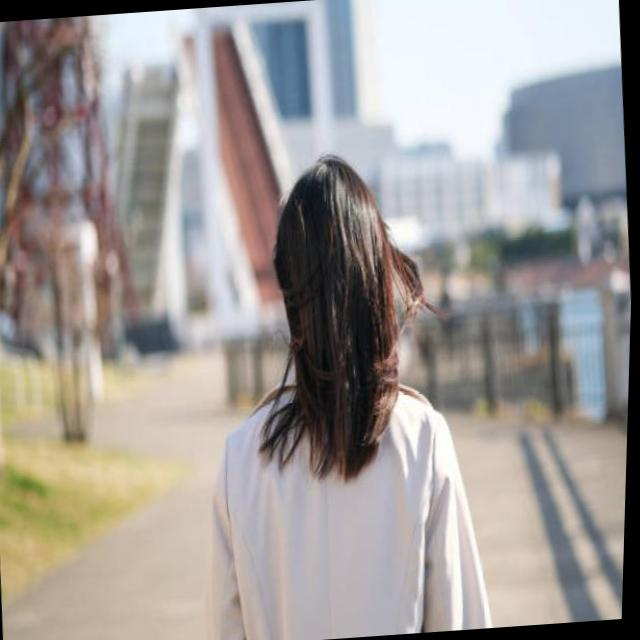no helmet: (244, 137, 458, 454)
